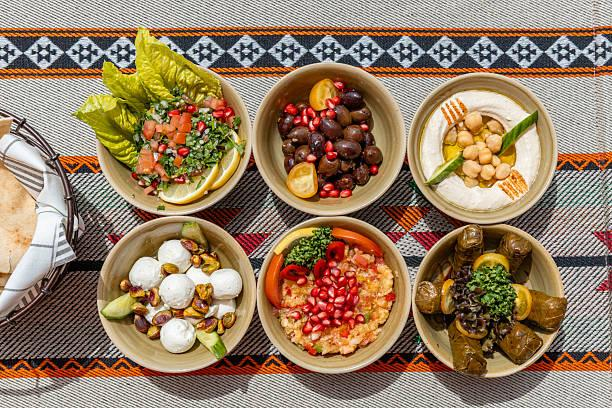Braised Crucian Carp: (92, 59, 249, 216), (95, 217, 254, 371), (254, 216, 409, 372), (251, 61, 404, 214), (410, 224, 563, 377), (406, 71, 555, 221)
